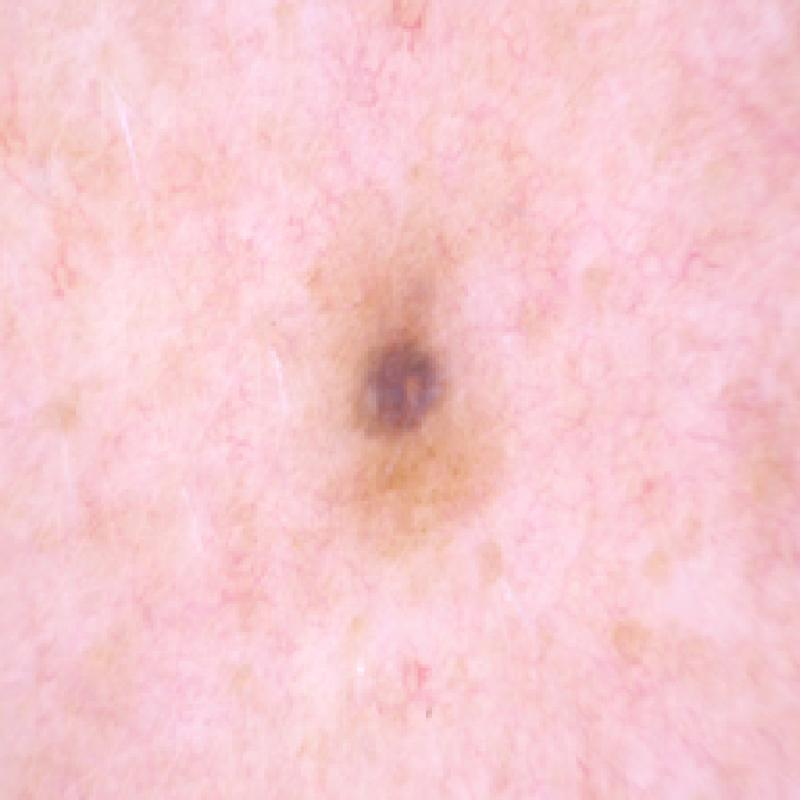benign: (325, 290, 506, 520)
